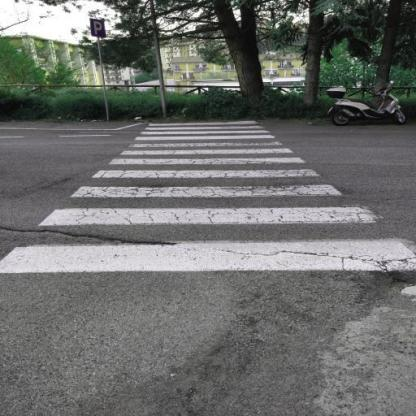crosswalk: (32, 182, 389, 232), (102, 146, 309, 168), (134, 124, 276, 136)
